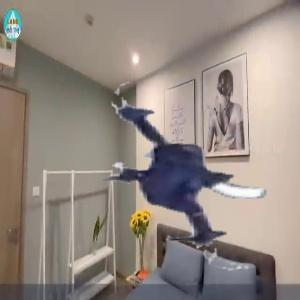drone: (81, 73, 297, 289)
